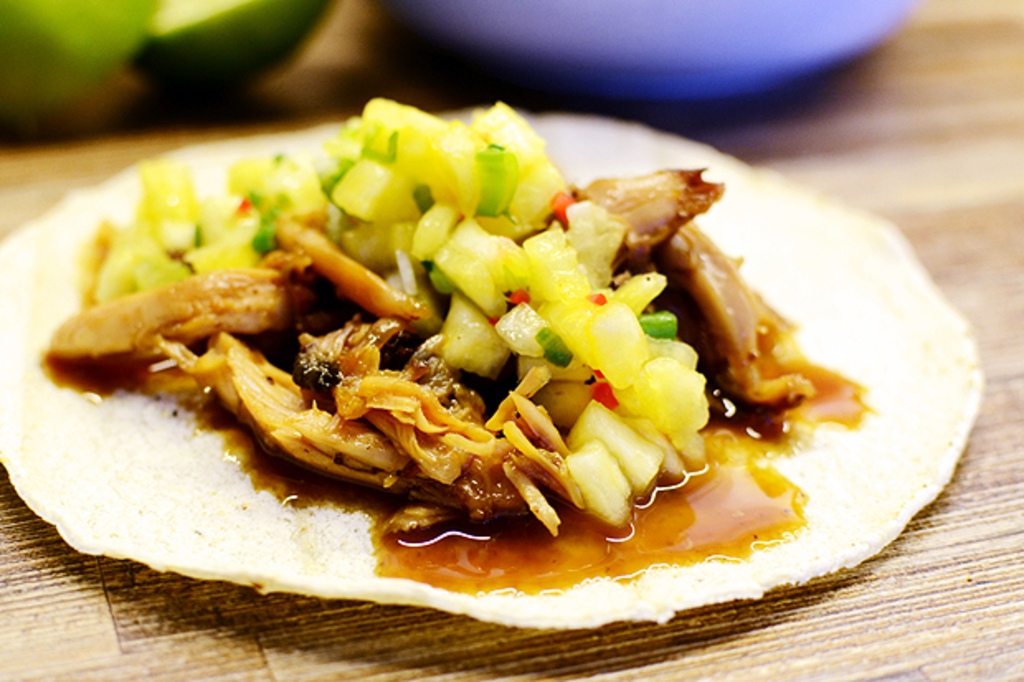taco: (20, 76, 973, 639)
